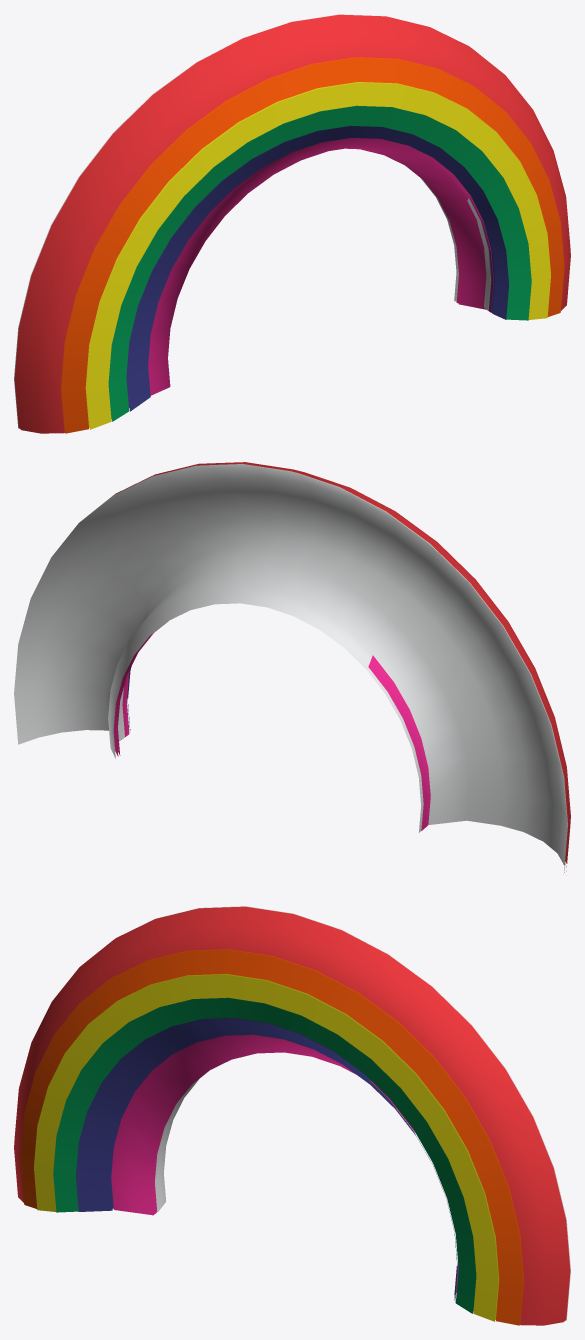
File: arco.fbx
The picture shows the model from 3 angles, top to bottom: view 1: azimuth 30°, elevation 25°; view 2: azimuth 150°, elevation 25°; view 3: azimuth 330°, elevation 25°; orthographic projection.
Visible parts, largest first — view 1: cores, laranja, amarelo, verde, rosa, azul, vermelho, cinza; view 2: cinza, cores, rosa, vermelho; view 3: cores, laranja, amarelo, verde, rosa, azul, vermelho, cinza.
Part boxes in pixels (x1,y1,x2,y2): cores: [16, 16, 570, 433]; laranja: [61, 57, 564, 433]; amarelo: [86, 82, 550, 429]; verde: [109, 106, 531, 421]; rosa: [148, 138, 493, 395]; azul: [127, 126, 508, 411]; vermelho: [14, 14, 470, 428]; cinza: [14, 14, 491, 427]; cinza: [14, 464, 567, 874]; cores: [113, 462, 570, 871]; rosa: [116, 624, 430, 829]; vermelho: [113, 463, 568, 872]; cores: [14, 908, 568, 1325]; laranja: [20, 949, 523, 1325]; amarelo: [34, 974, 498, 1321]; verde: [53, 998, 475, 1313]; rosa: [111, 1034, 458, 1293]; azul: [76, 1018, 457, 1301]; vermelho: [114, 906, 570, 1320]; cinza: [117, 906, 570, 1319].
Size of the model in its own units: 6.08 by 3.57 by 0.6732.
